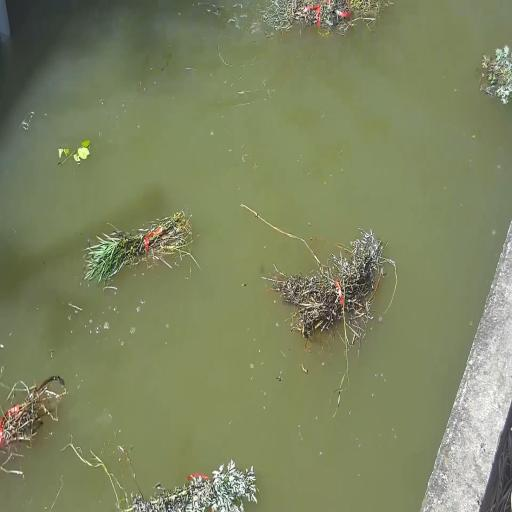twig: (274, 202, 383, 338), (82, 203, 202, 287), (108, 450, 249, 512), (0, 363, 62, 465), (265, 0, 384, 43), (484, 36, 512, 118), (42, 120, 88, 163)
